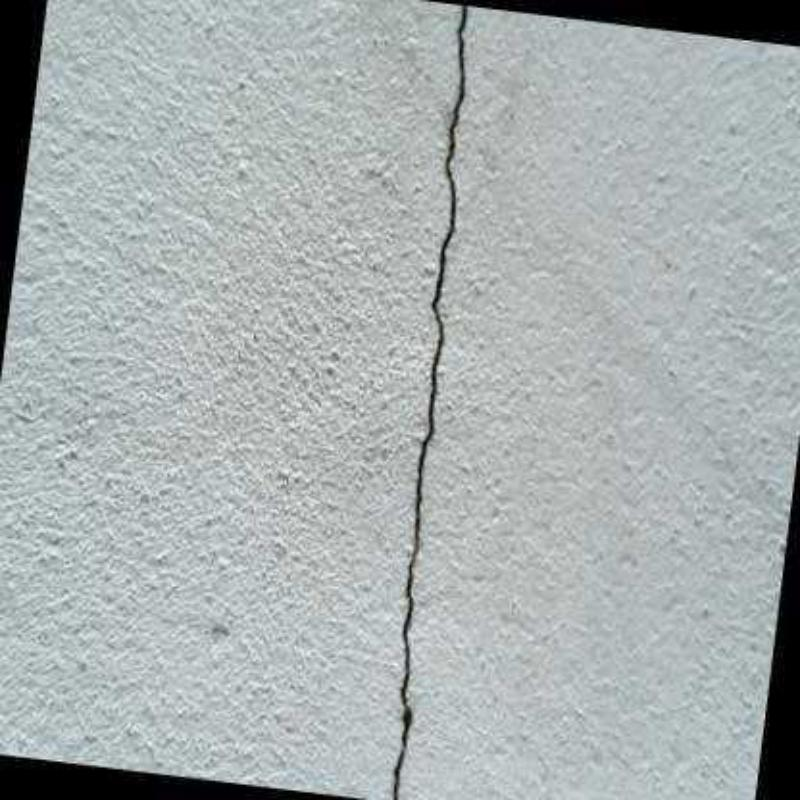pothole: (394, 4, 468, 798)
